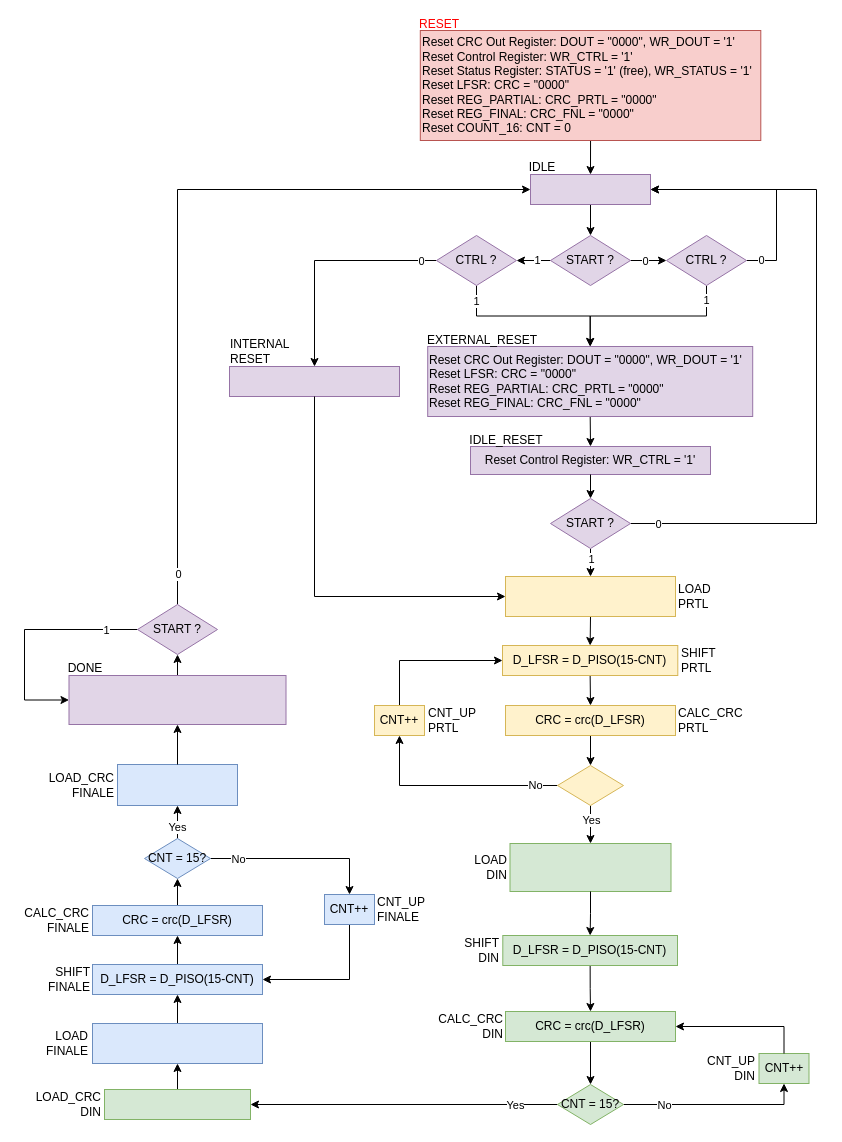
This 842x1142 diagram has some shape labels left out. The centre of each missing label's shape, as x and y in pixels:
CNT =15?: (x=590, y=785)
CRC_PARTIAL = CRC: (x=177, y=1104)
D_PISO = "0000" Reset COUNT_16: CNT = 0: (x=177, y=1043)
D_PISO = CRC_PRTL Reset COUNT_16: CNT = 0: (x=590, y=596)
Reset LFSR: CRC = "0000": (x=314, y=381)
STATUS = 0 (busy) D_PISO = DIN Reset COUNT_16: CNT = 0: (x=590, y=867)
STATUS = 1 (free) CRC_FINAL = CRC: (x=177, y=785)
Update CRC Out Register: DOUT = CRC_FINAL, WR_DOUT = 1: (x=177, y=699)
Valori di default: (x=590, y=189)
